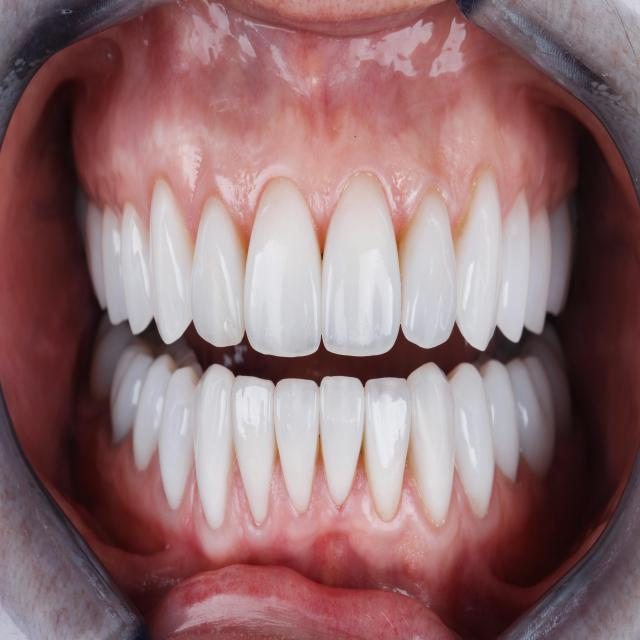tooth: (321, 172, 402, 357), (243, 178, 322, 358), (397, 188, 458, 349), (109, 336, 196, 442), (453, 169, 503, 352), (191, 193, 248, 347), (406, 362, 457, 526), (133, 355, 203, 469), (446, 363, 495, 518), (149, 179, 195, 344), (230, 375, 279, 526), (192, 363, 236, 529), (362, 377, 412, 521), (273, 378, 320, 514), (506, 357, 556, 480), (319, 376, 365, 506), (159, 367, 200, 510), (497, 184, 531, 343), (477, 360, 520, 482), (121, 202, 154, 335), (524, 204, 552, 333), (101, 204, 128, 325)
